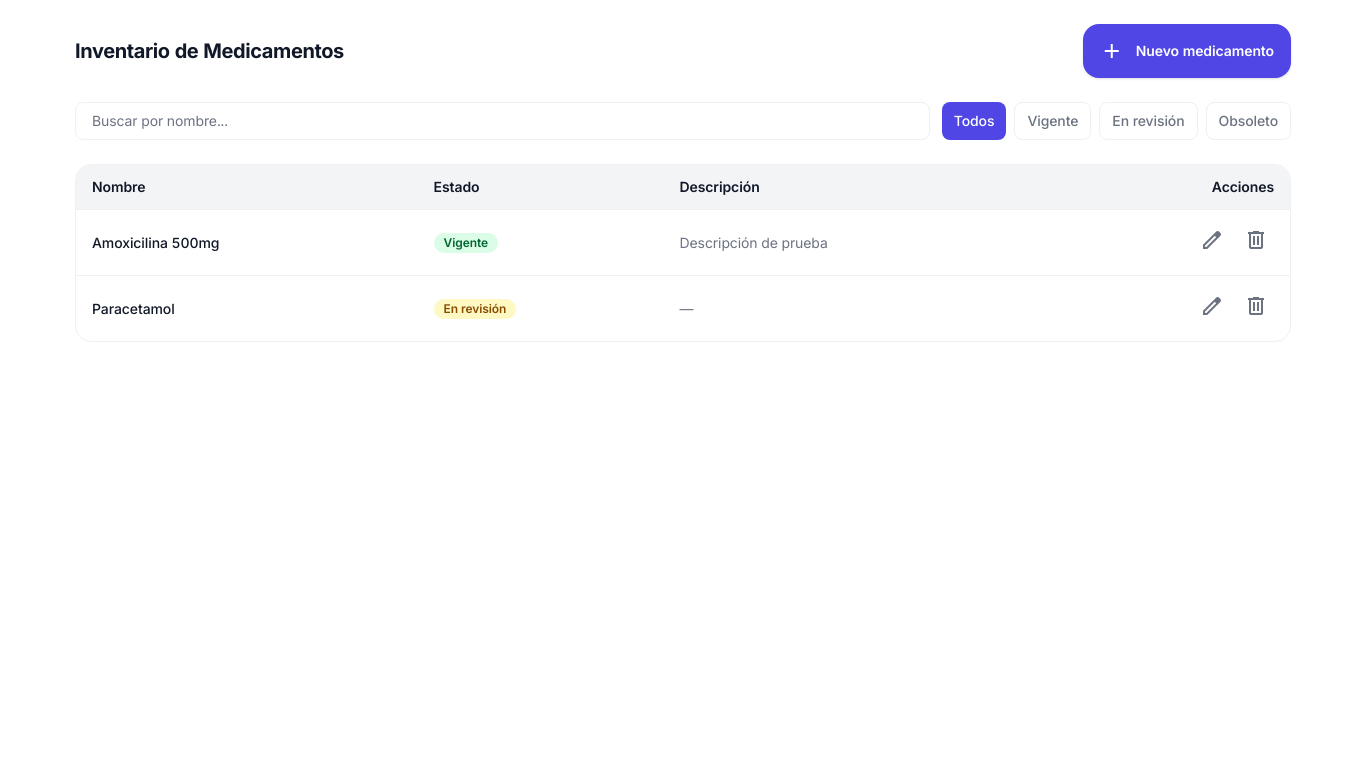
Test: InventoryPage › edit modal › shows a validation error when the edited nombre is cleared
Check: the text "Amoxicilina 500mg" is shown, box [76,210,418,276]
Click the button named "Editar" in the row of "Amoxicilina 500mg" at (1212, 242), box [1194,222,1230,263]
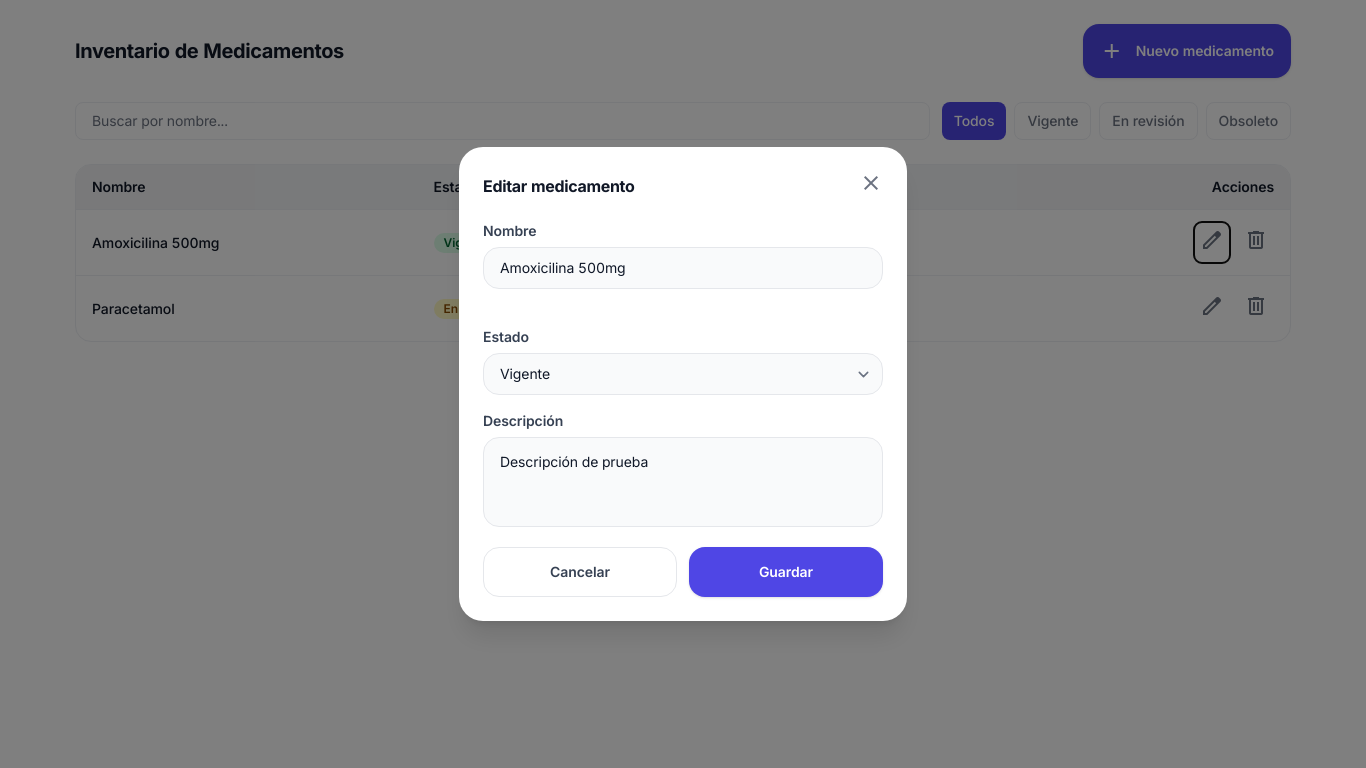
Clear the field labelled "Nombre" at (683, 268), box [483,247,883,289]
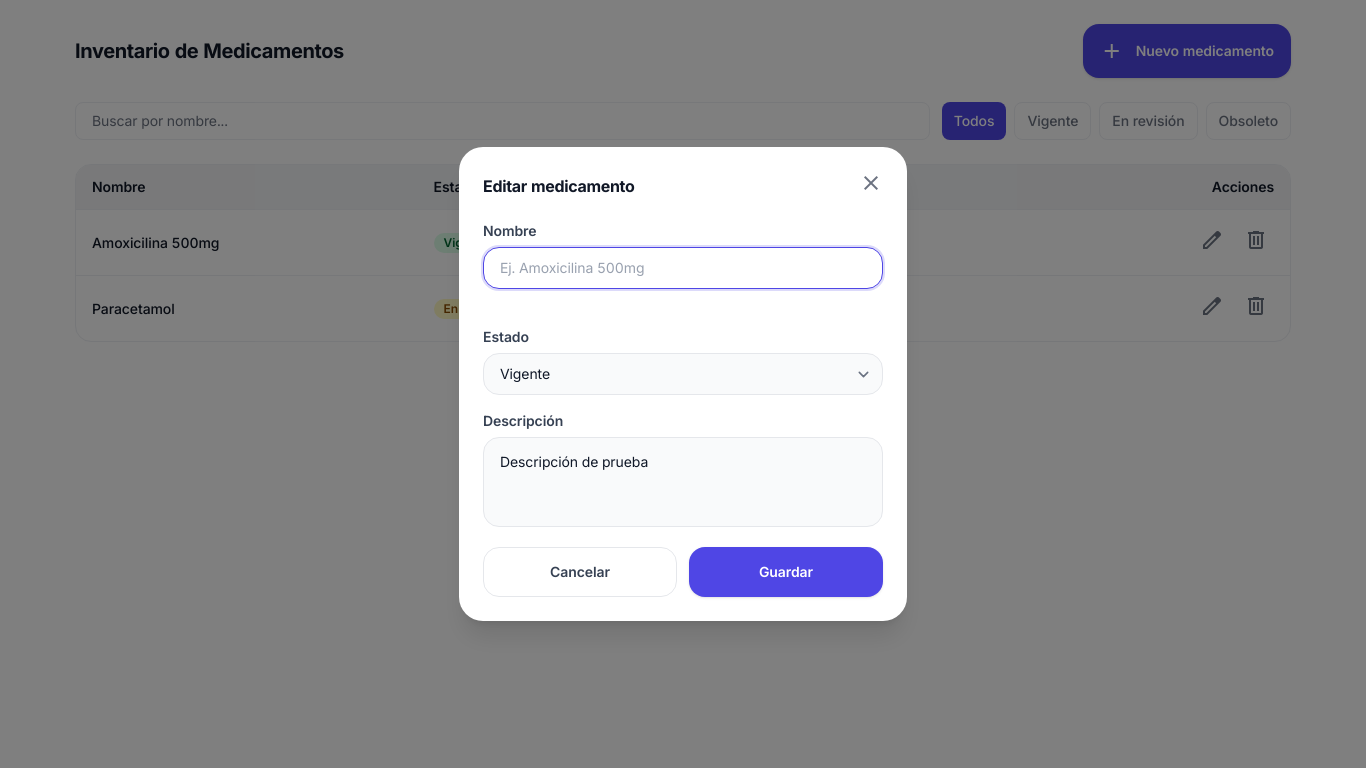
Click the button "Guardar" at (786, 572), box [689,547,883,597]
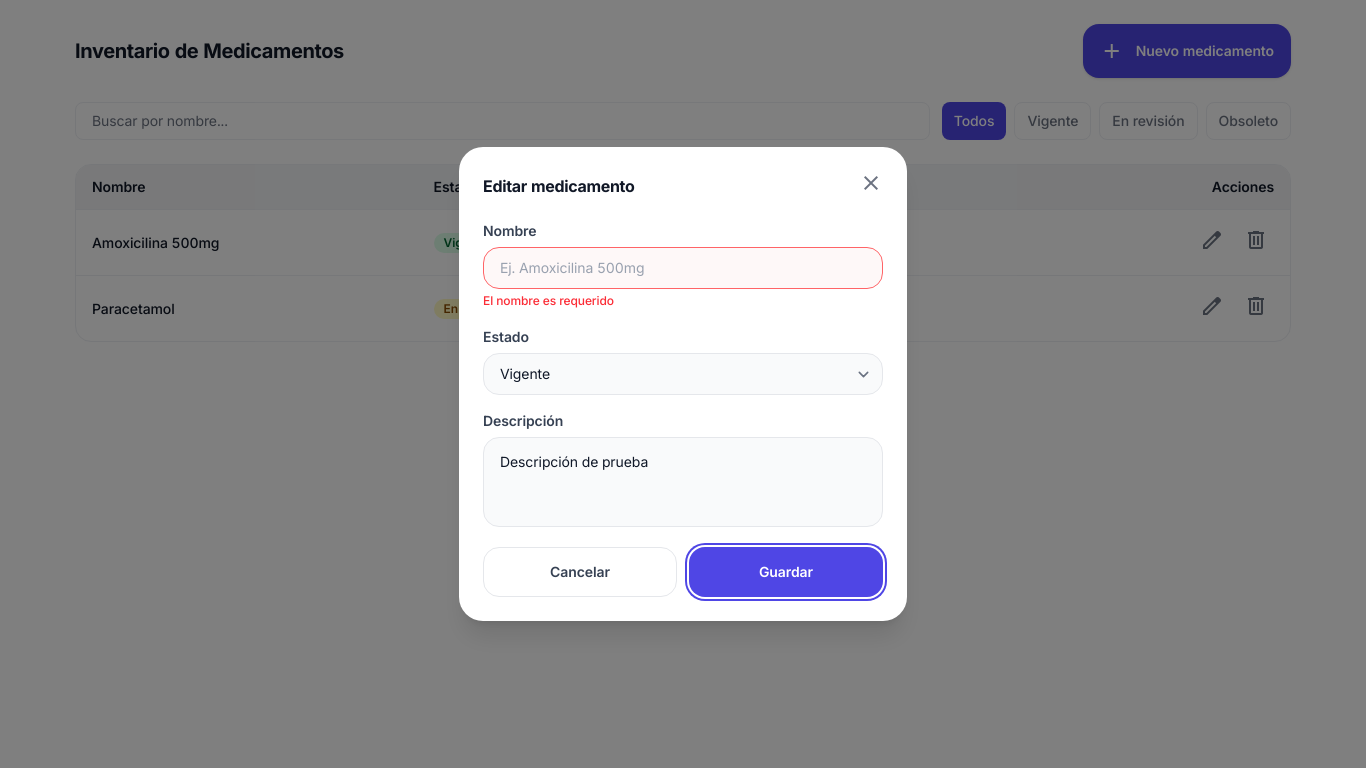
Check: the text "El nombre es requerido" is shown, box [483,293,614,308]
